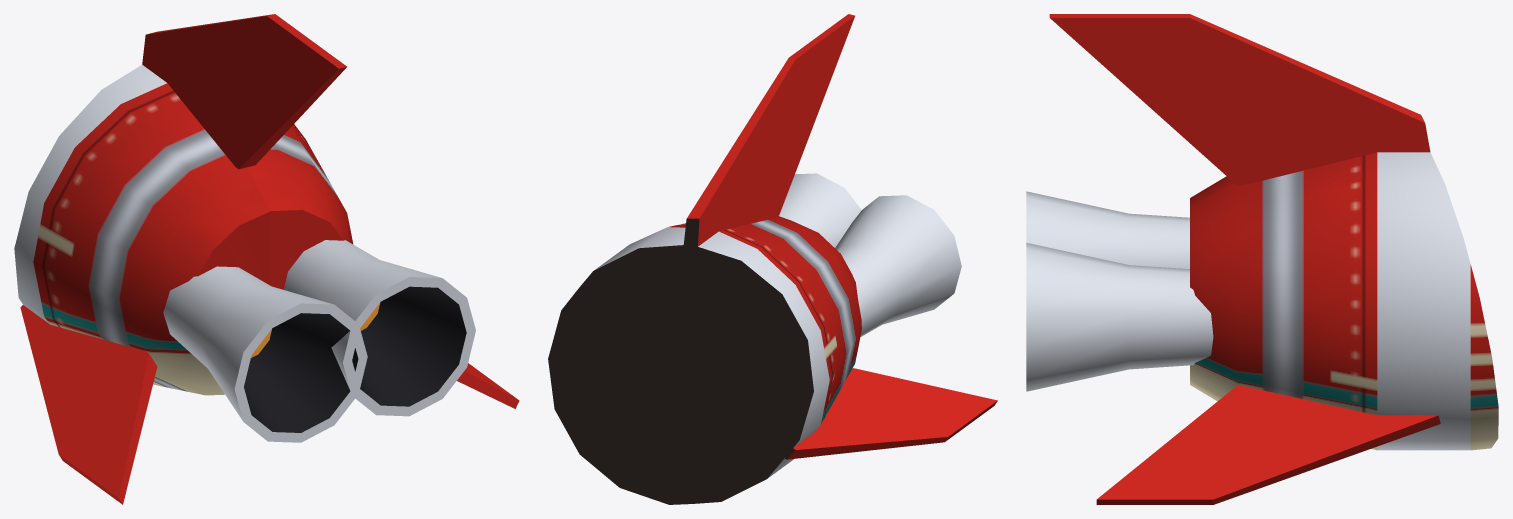
The model's file is survey_ship_debris3.obj.
3 renders of one model, left to right at view 1: azimuth 30°, elevation 25°; view 2: azimuth 150°, elevation 25°; view 3: azimuth 270°, elevation 25°, orthographic. The views are drawn at different scales.
Parts seen in each view (by area): view 1: body, bell, fin_top, fin_left, fin_right; view 2: body, bell, fin_top, fin_left; view 3: body, fin_top, bell, fin_right.
Boxes of the visible parts, box(x1,y1,x2,y2) form: body: box(14, 65, 353, 395); bell: box(163, 240, 475, 442); fin_top: box(142, 14, 346, 169); fin_left: box(20, 305, 157, 504); fin_right: box(457, 363, 519, 408); body: box(548, 216, 861, 504); bell: box(779, 173, 961, 336); fin_top: box(680, 14, 854, 275); fin_left: box(760, 368, 997, 459); body: box(1190, 152, 1498, 450); fin_top: box(1049, 14, 1430, 185); bell: box(1026, 191, 1213, 391); fin_right: box(1096, 385, 1440, 504).
Bounding box in the file's own units: 9.63 × 9.9 × 10.1.
6 materials, 1 textured.
